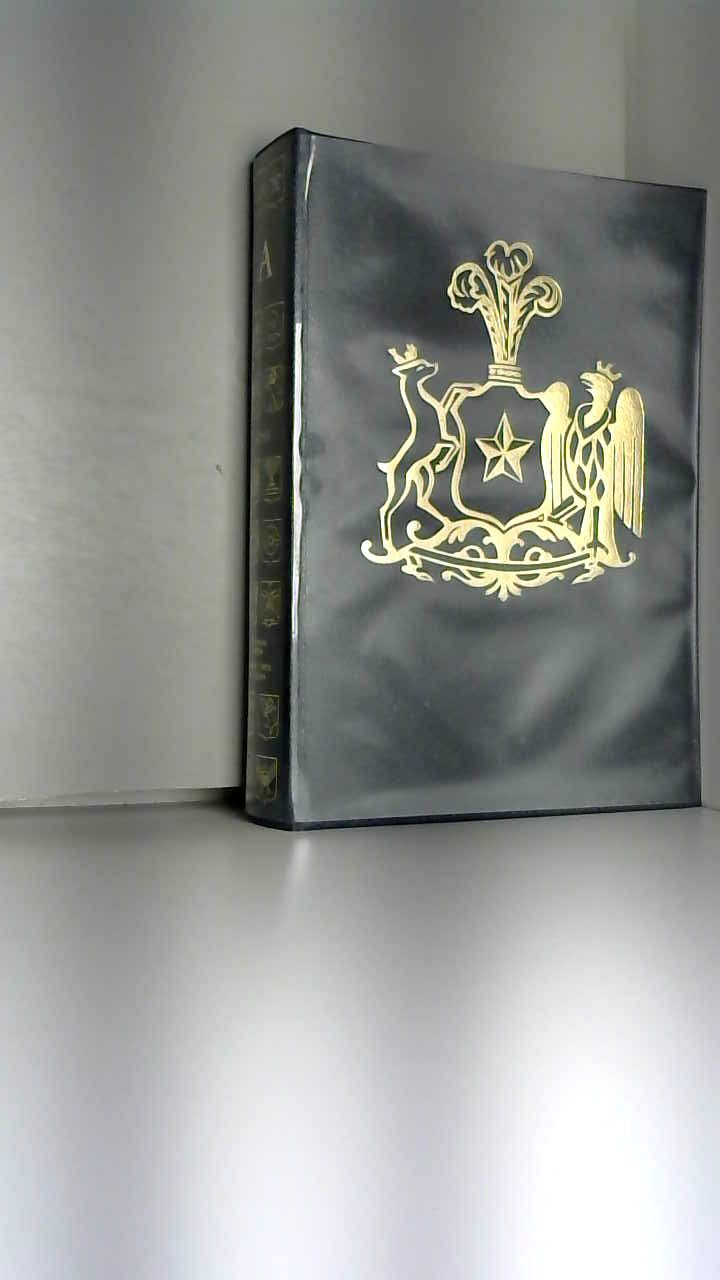book: (210, 100, 720, 854)
